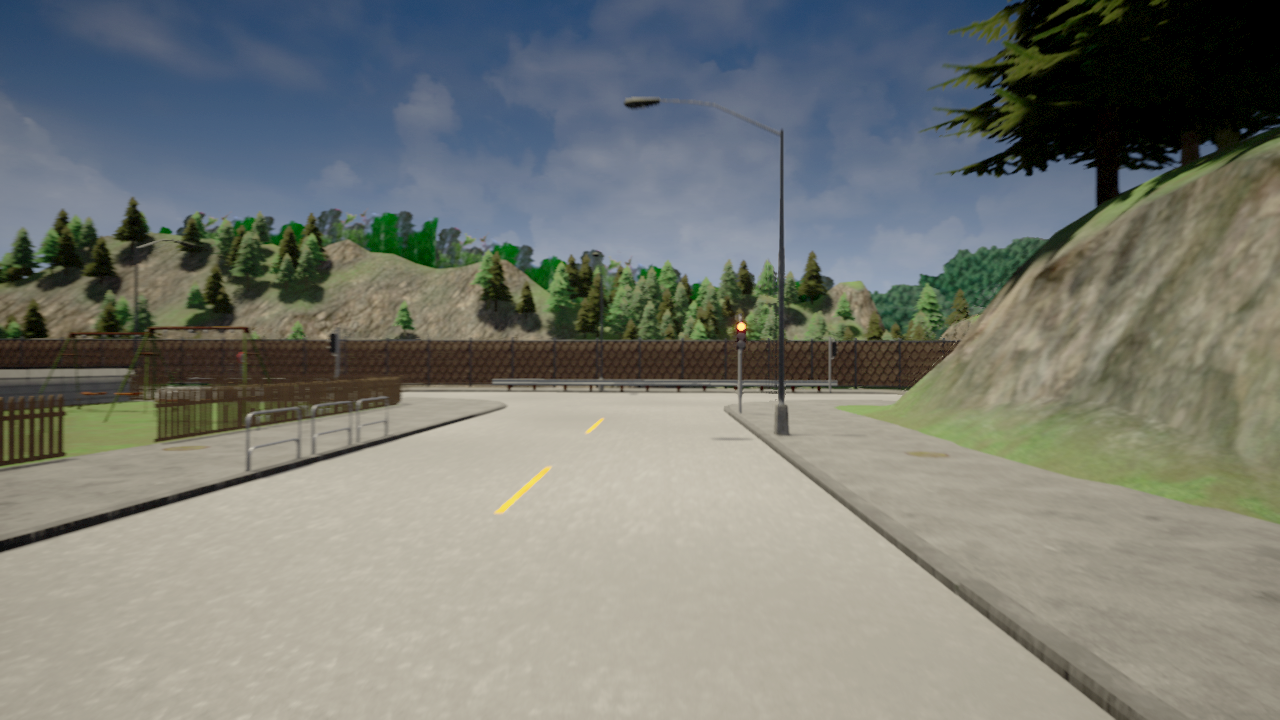red: (735, 320, 747, 350)
